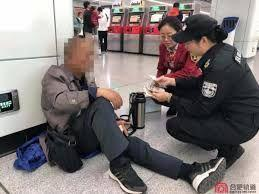Fall-Detected: (32, 39, 224, 194)
